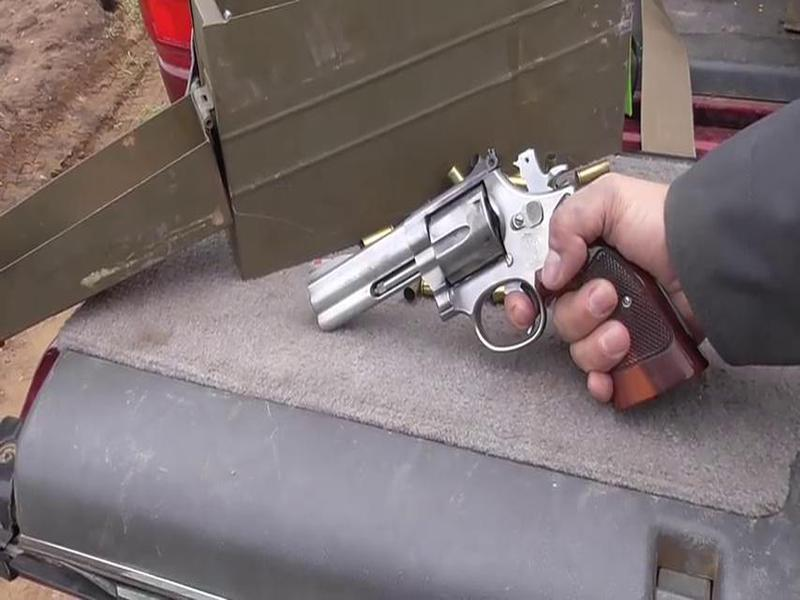Revolver: (301, 150, 627, 418)
